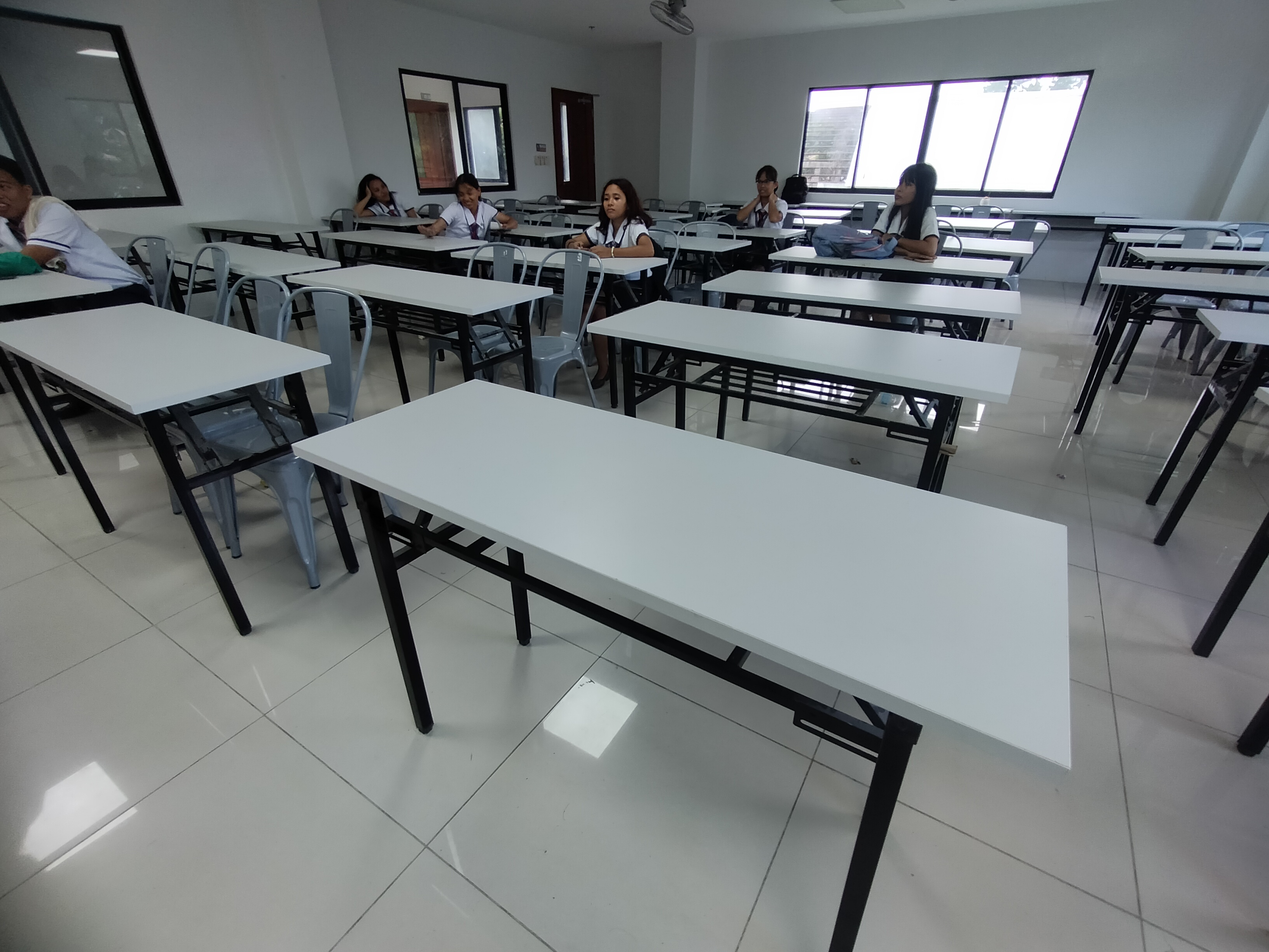with-student: (768, 160, 1021, 290), (457, 172, 676, 296), (0, 144, 152, 318), (333, 167, 520, 257), (649, 165, 811, 243), (317, 164, 461, 239)
